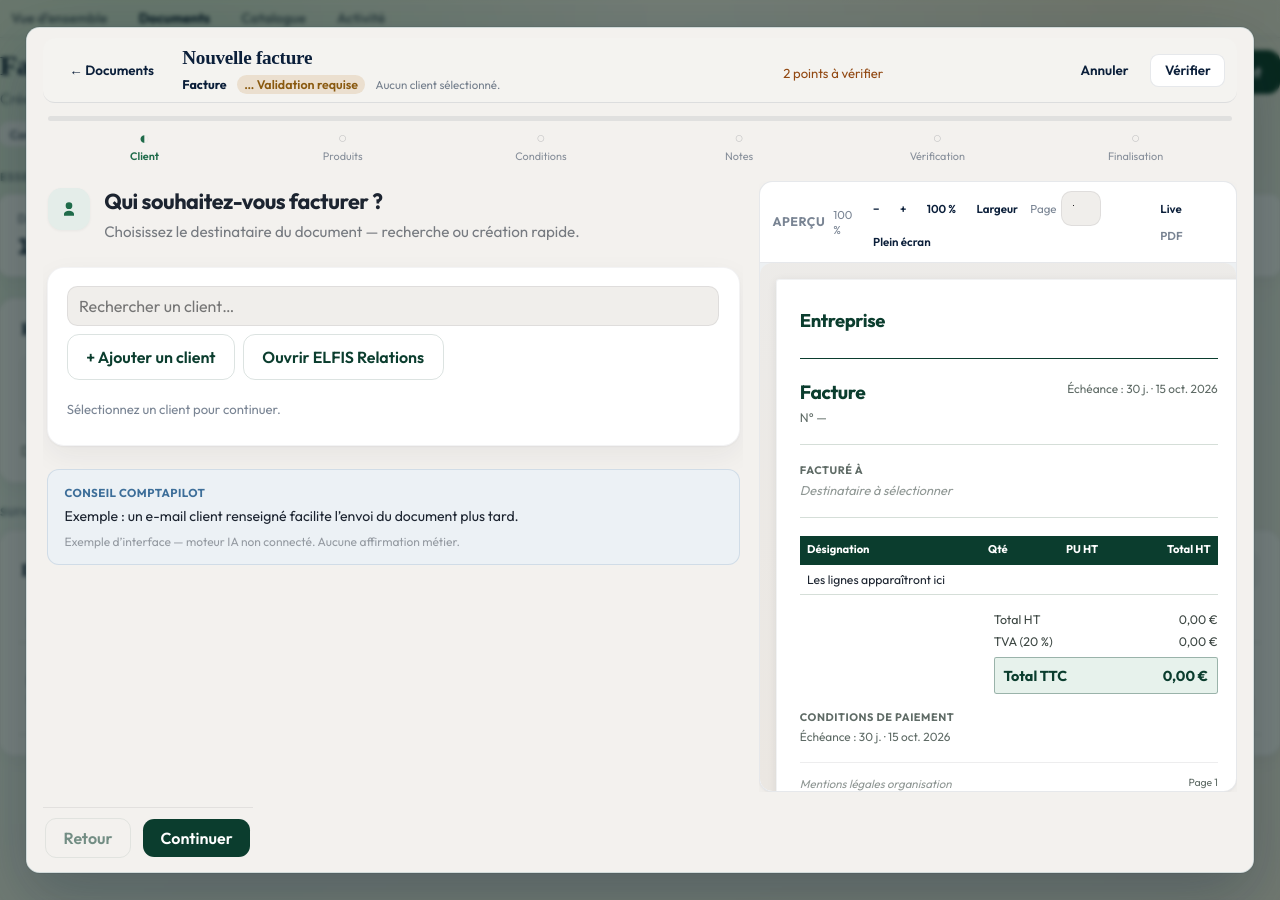
it: GC11–GC20 Navigation étapes › GC12 — items → gate sans ligne
Click the button "+ Ajouter un client" at (151, 357), box [67,334,235,380]
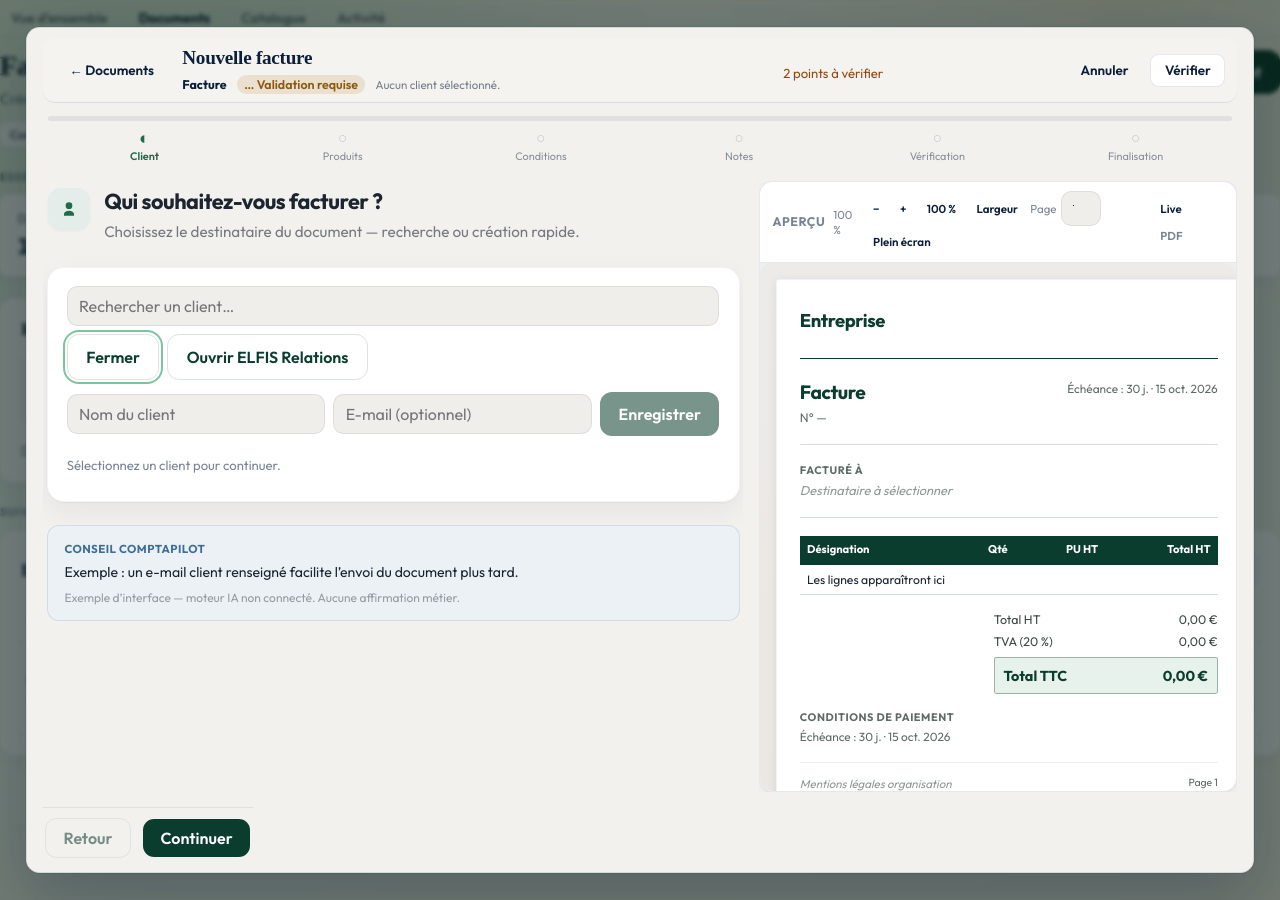
Type "Dupont SAS" into the field named "Nom du nouveau client" at (196, 414), box [67,394,326,434]
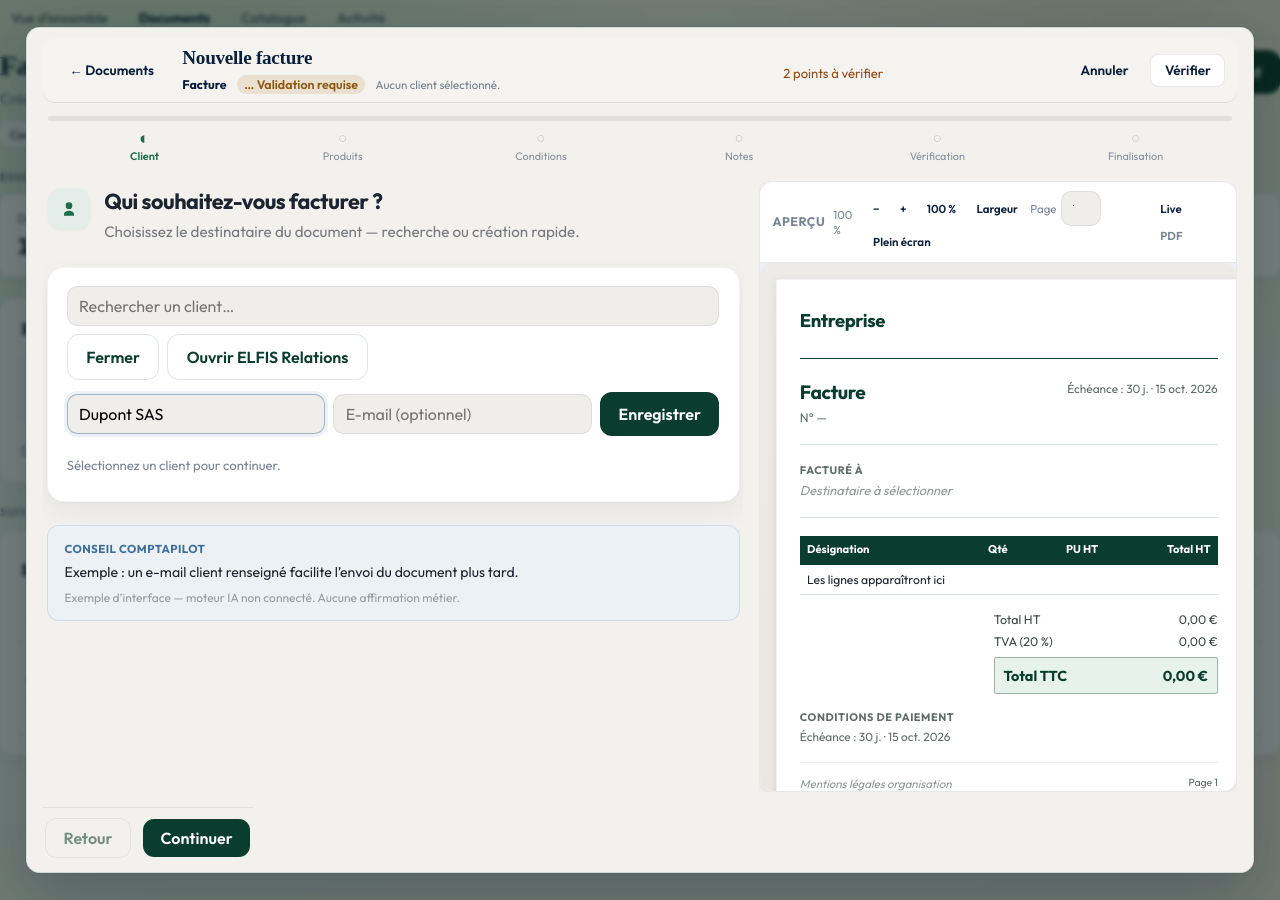
Click the button "Enregistrer" at (660, 414), box [600,392,719,436]
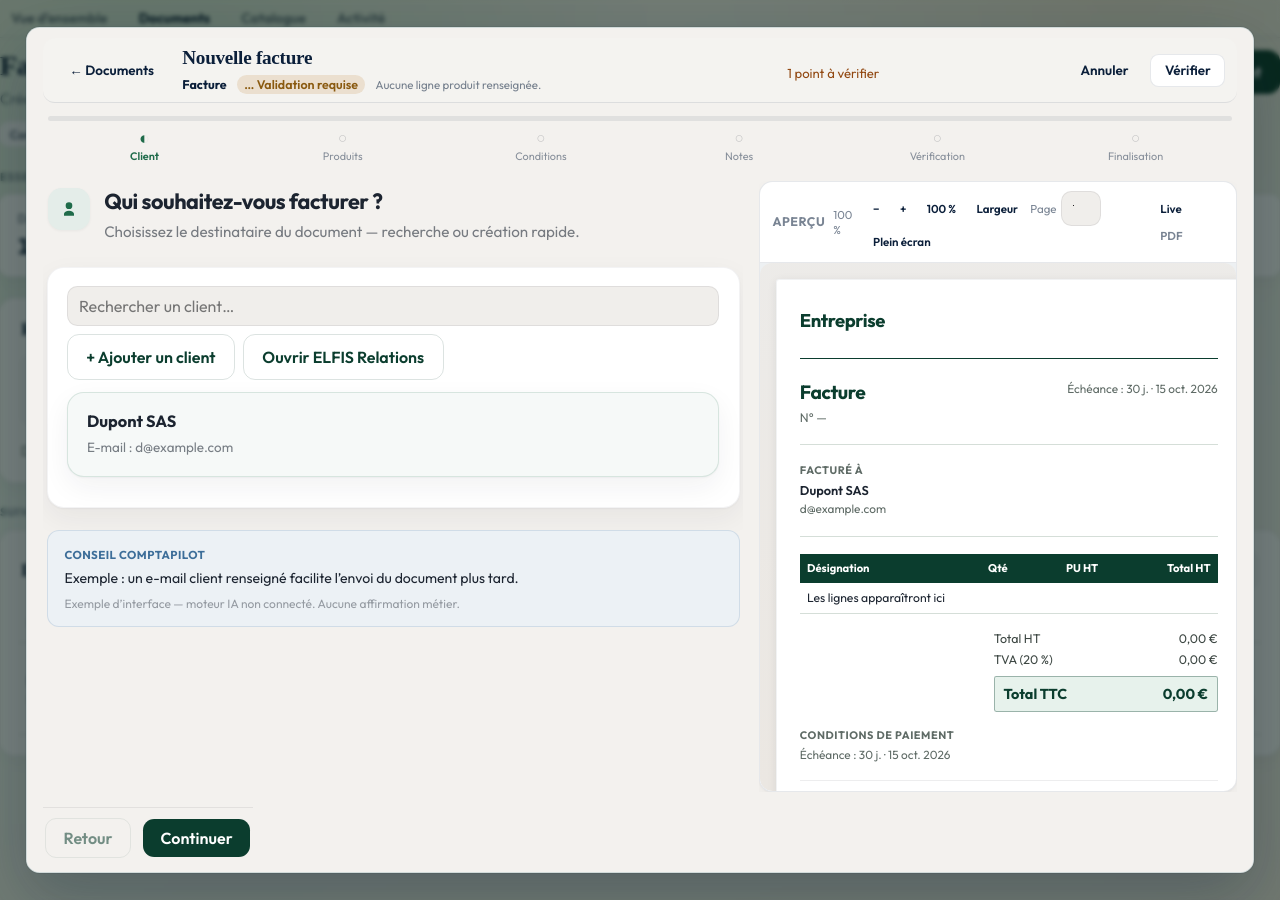
Click the button "Continuer" at (197, 838), box [143,819,250,857]
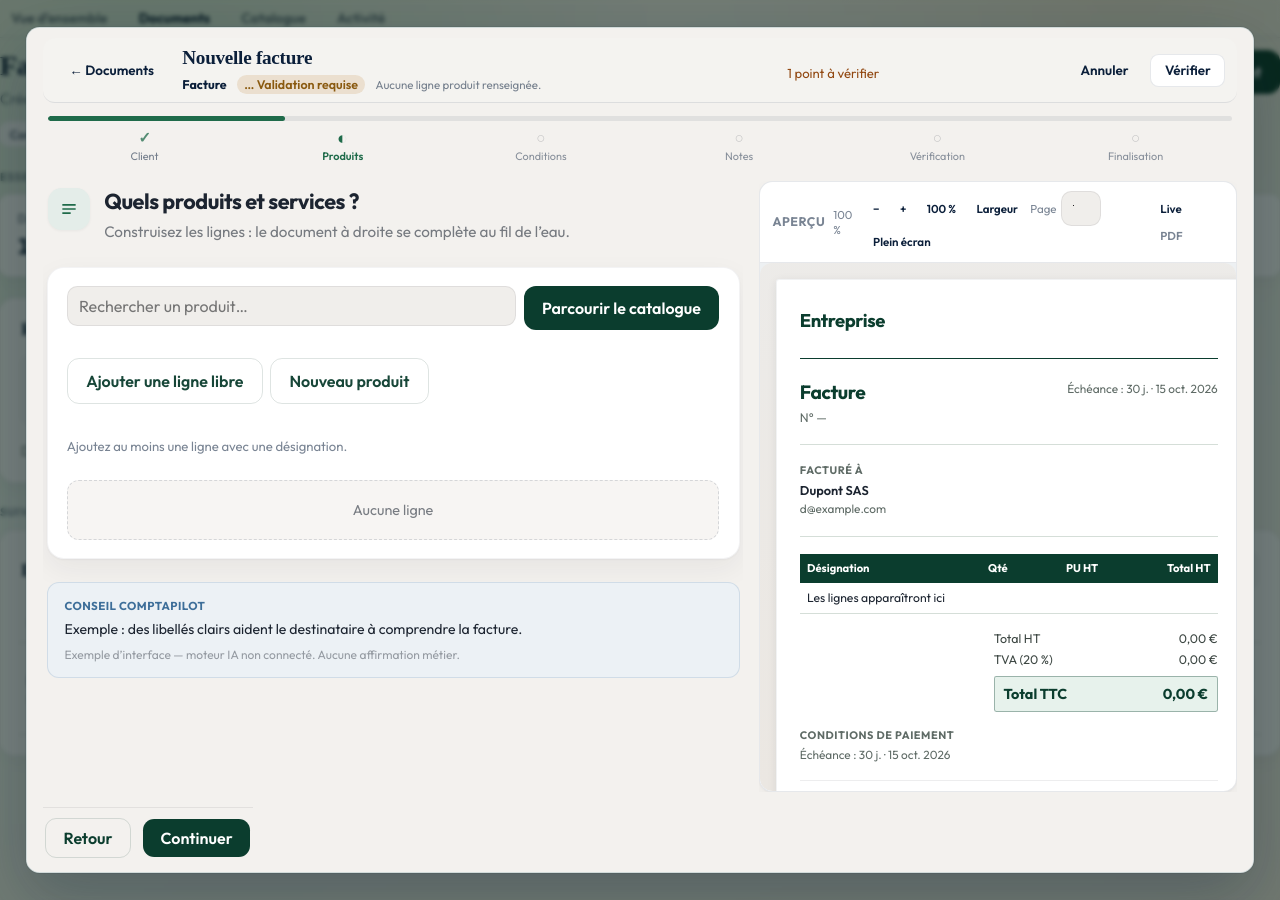
Result: the heading "Quels produits et services ?" is shown at [104,187,359,215]
Click the button "Continuer" at (197, 838), box [143,819,250,857]
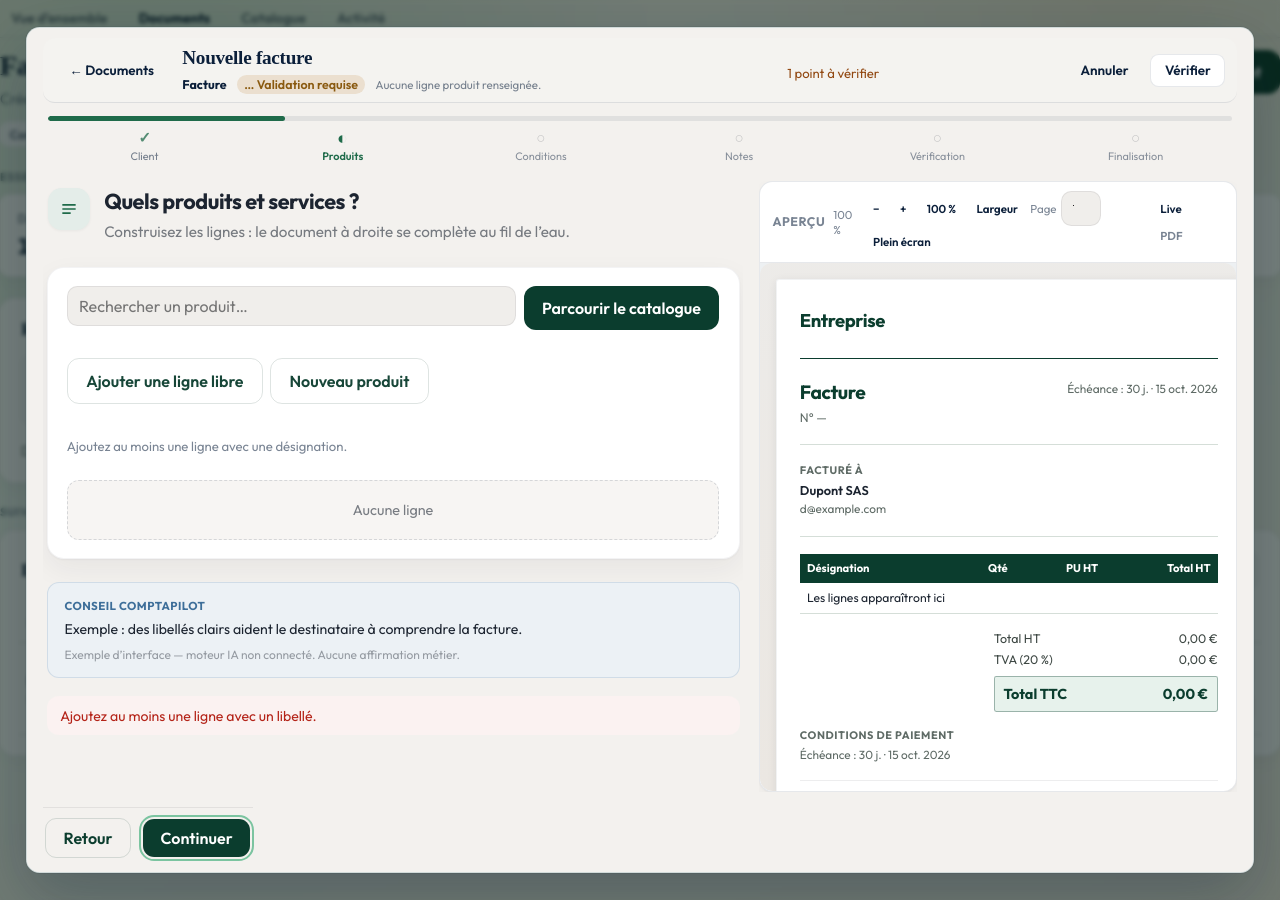
Result: the message "Ajoutez au moins une ligne avec un libellé." is shown at [47,696,740,735]
